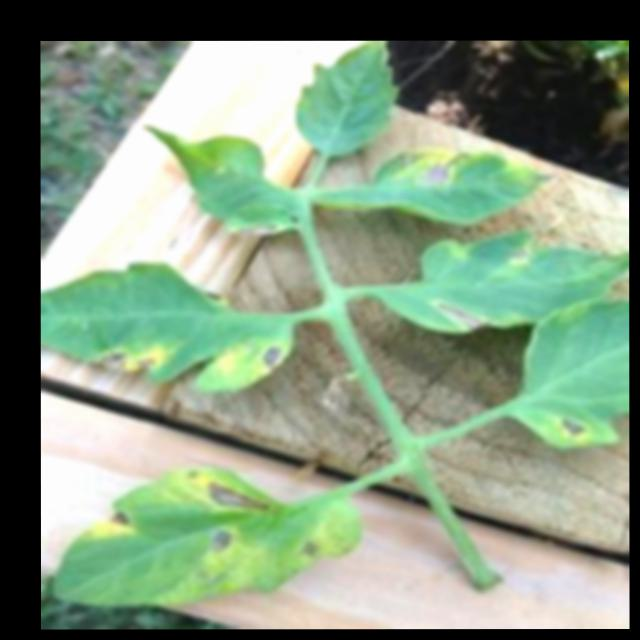Early_blight: (180, 468, 272, 513), (87, 341, 175, 375), (429, 295, 489, 337), (84, 506, 136, 540), (413, 148, 453, 186), (252, 335, 288, 372), (203, 526, 237, 553), (559, 414, 591, 440), (504, 241, 532, 263), (235, 221, 278, 234)
